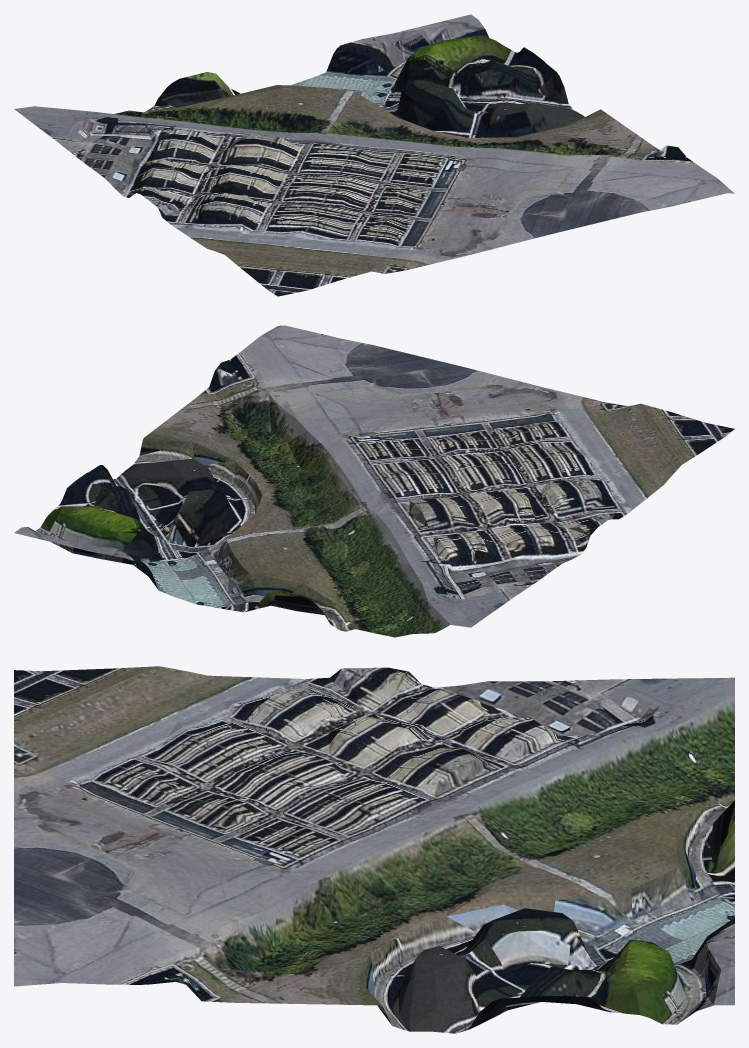
Rendered from map_15_8179_13777.dae.
The picture shows the model from 3 angles, top to bottom: view 1: azimuth 30°, elevation 25°; view 2: azimuth 150°, elevation 25°; view 3: azimuth 270°, elevation 25°; orthographic projection. The views are drawn at different scales.
Visible parts, largest first — view 1: Ter0; view 2: Ter0; view 3: Ter0.
Part boxes in pixels (left/top/right/bottom): Ter0: left=14, top=14, right=734, bottom=296; Ter0: left=14, top=325, right=734, bottom=637; Ter0: left=14, top=666, right=734, bottom=1033.
Size of the model in its own units: 63.87 by 63.88 by 7.26.
2 materials, 2 textured.
